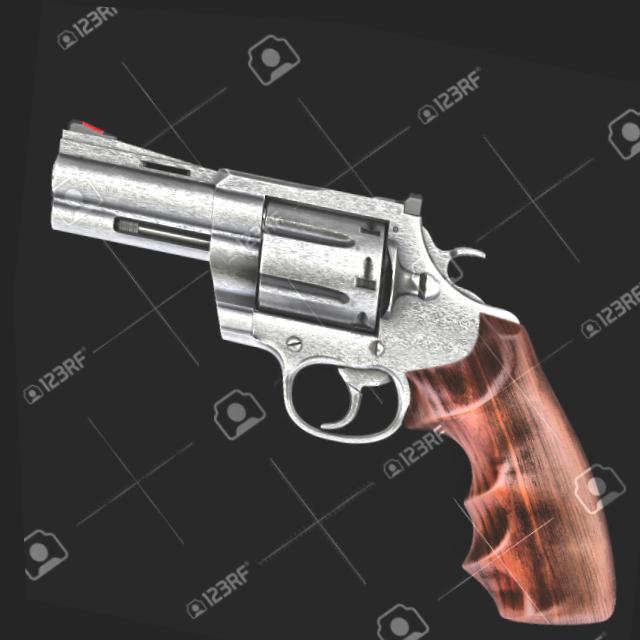pistol: (4, 104, 640, 640)
